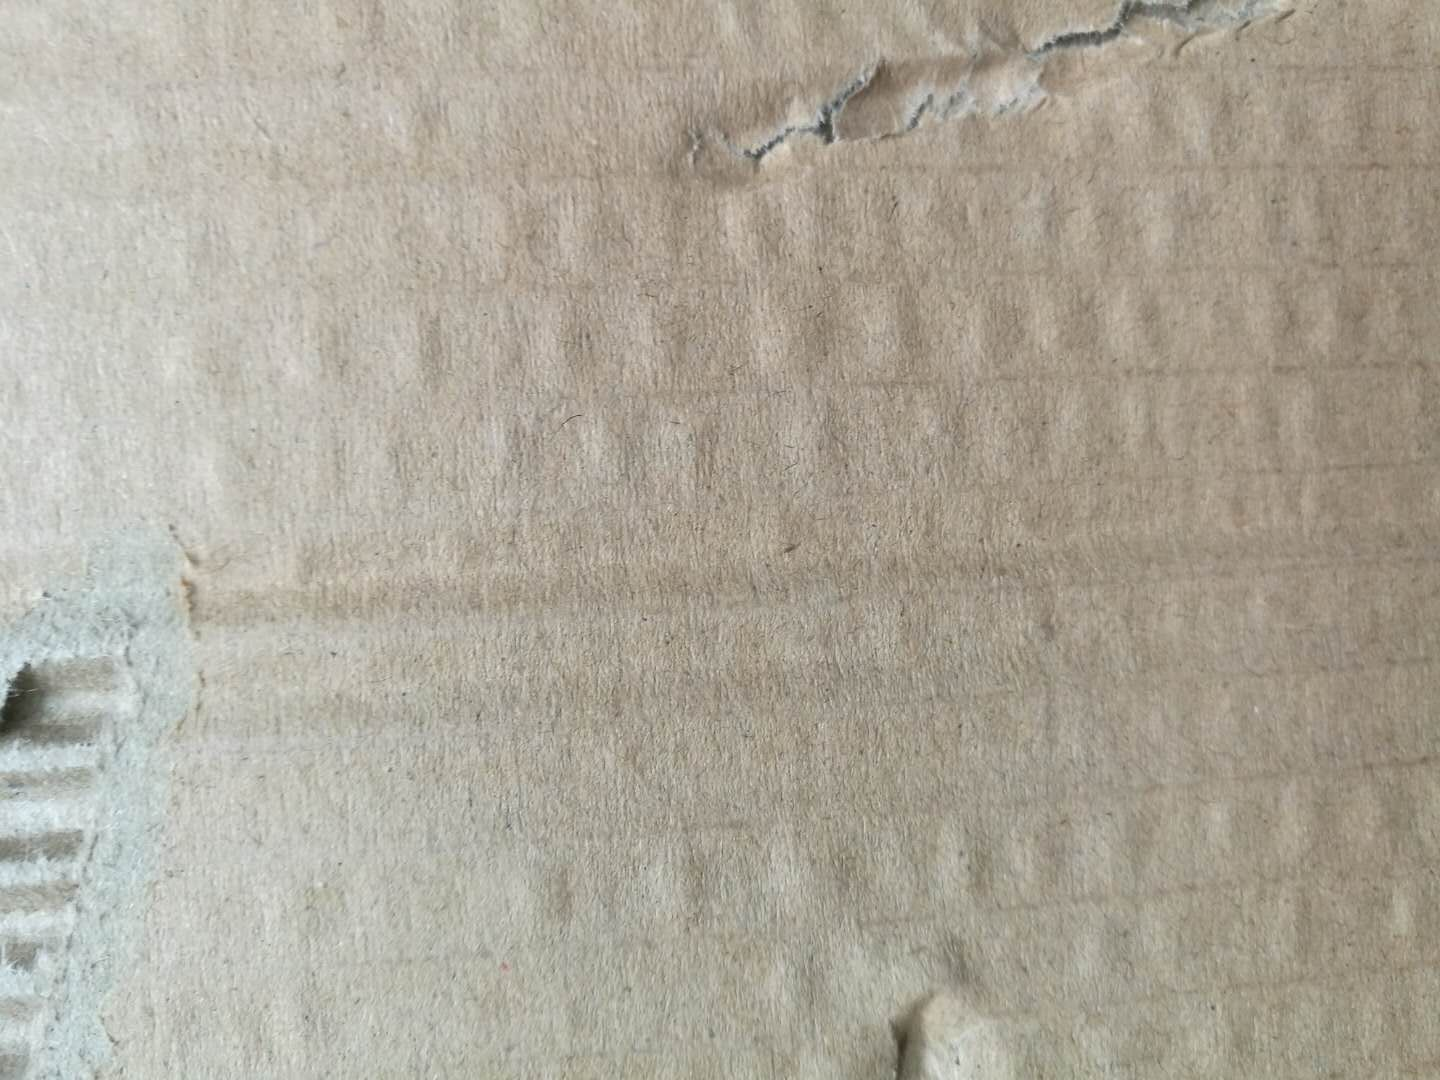defect: (277, 523, 1440, 752), (635, 3, 1401, 204), (5, 496, 254, 1080), (835, 972, 1044, 1080)
